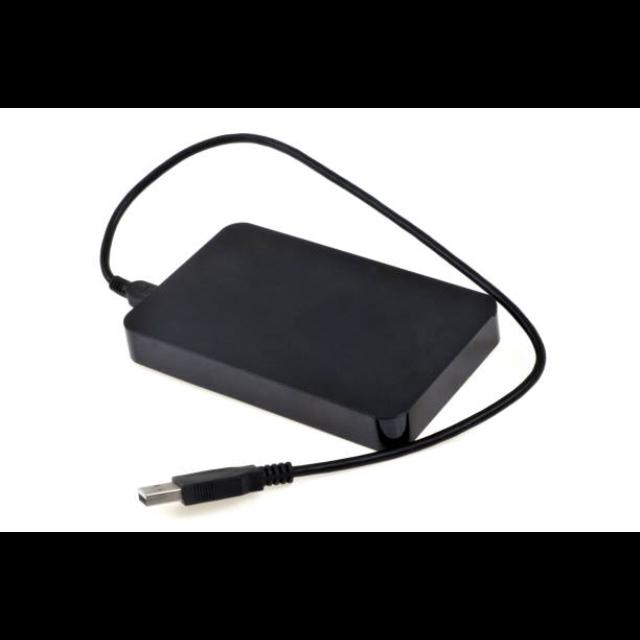HDD: (122, 223, 500, 453)
